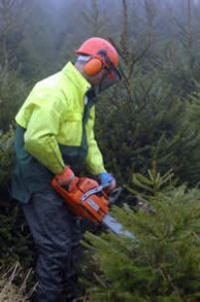person: (13, 38, 122, 301)
